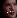without_mask: (2, 1, 17, 18)
